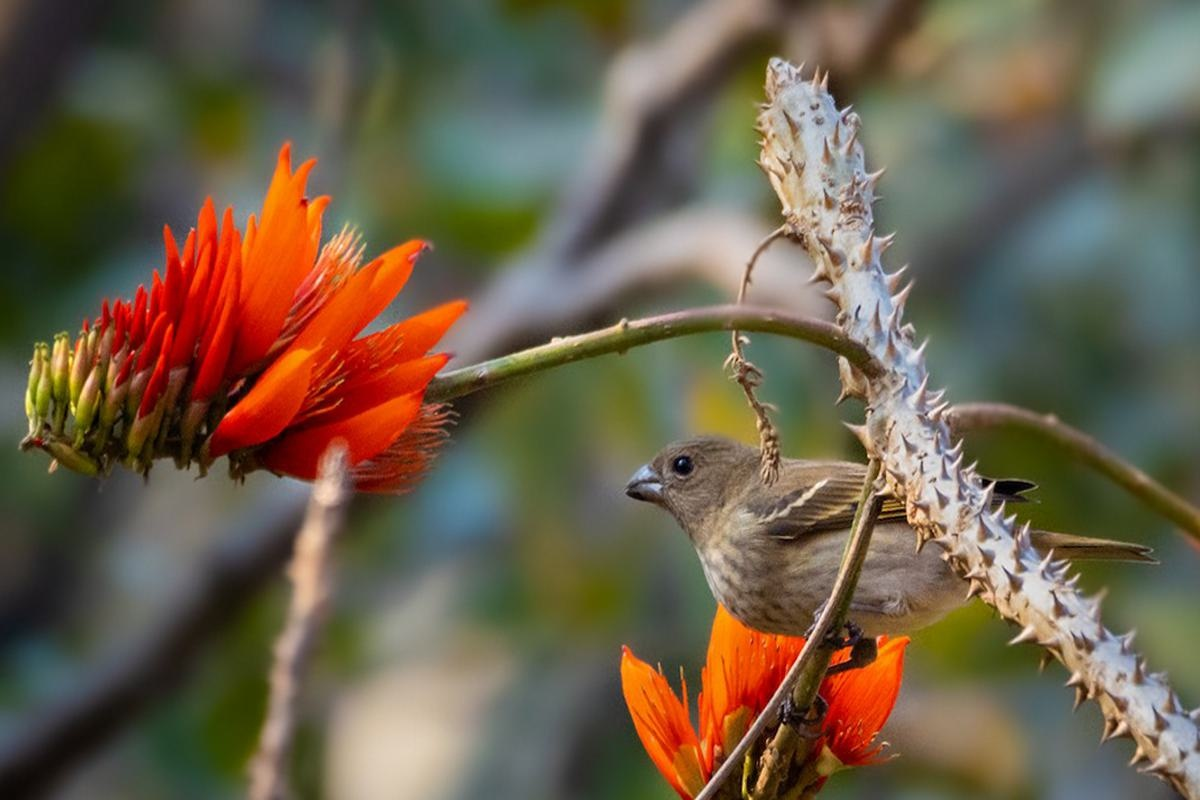rosefinch: (623, 403, 1053, 623)
